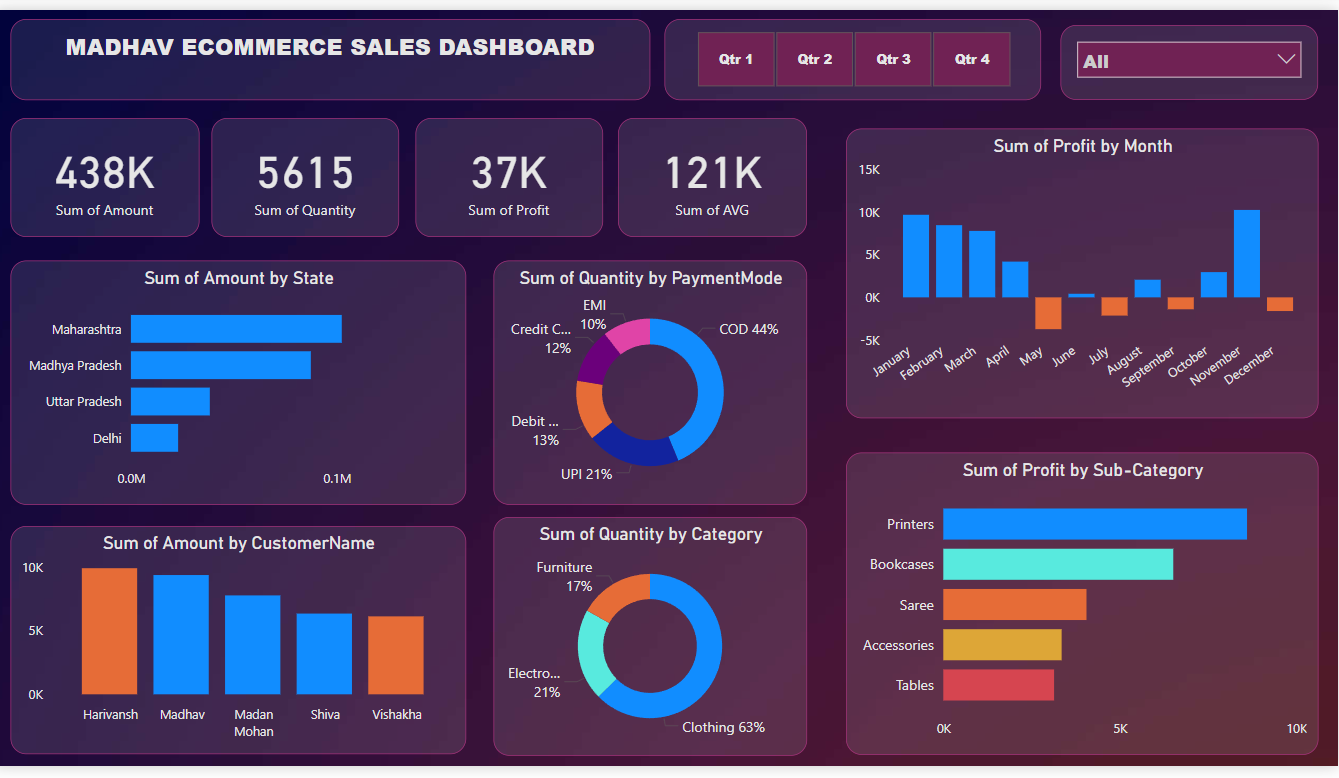

This screenshot's page, from the dashboard's own definition file:
{"tool":"powerbi","page":{"name":"Page 1","canvas":[1280,720],"ordinal":0},"visuals":[{"type":"textbox","box":[16.2,8.1,609.6,77],"z":0},{"type":"columnChart","fields":{"Y":["Details.Profit"],"Category":["Orders.Order Date.Variation.Date Hierarchy.Month"]},"box":[811,112.2,450.1,275.8],"z":1},{"type":"barChart","fields":{"Category":["Details.Sub-Category"],"Y":["Details.Profit"]},"box":[811,421.7,450.1,287.9],"z":2},{"type":"donutChart","fields":{"Category":["Details.Category"],"Y":["Details.Quantity"]},"box":[475.8,482.6,298.7,227.1],"z":3},{"type":"donutChart","fields":{"Y":["Details.Quantity"],"Category":["Details.PaymentMode"]},"box":[475.8,239.3,298.7,232.5],"z":4},{"type":"card","fields":{"Values":["Details.Amount"]},"box":[16.2,102.7,179.8,113.5],"z":5},{"type":"card","fields":{"Values":["Details.Quantity"]},"box":[206.8,102.7,178.4,113.5],"z":6},{"type":"card","fields":{"Values":["Details.Profit"]},"box":[401.5,102.7,178.4,113.5],"z":7},{"type":"card","fields":{"Values":["Details.AVG"]},"box":[594.8,102.7,179.8,113.5],"z":8},{"type":"barChart","fields":{"Category":["Orders.State"],"Y":["Details.Amount"]},"box":[16.2,239.3,433.9,232.5],"z":9},{"type":"columnChart","fields":{"Category":["Orders.CustomerName"],"Y":["Details.Amount"]},"box":[16.2,492,433.9,217.6],"z":10},{"type":"slicer","fields":{"Values":["Orders.Order Date.Variation.Date Hierarchy.Quarter"]},"box":[639,9.1,358.9,77.2],"z":11},{"type":"slicer","fields":{"Values":["Orders.State"]},"box":[1016,13.6,245.3,71.2],"z":12}]}

Visuals, with their boxes on the page's 1280x720 design canvas (x1, y1, x2, y2). These are canvas units, not pixel positions in the 1339x778 screenshot, which may show the page scaled, cropped or inside an application window:
textbox: bbox=[16, 8, 626, 85]
columnChart - Details.Profit x Orders.Order Date.Variation.Date Hierarchy.Month: bbox=[811, 112, 1261, 388]
barChart - Details.Sub-Category x Details.Profit: bbox=[811, 422, 1261, 710]
donutChart - Details.Category x Details.Quantity: bbox=[476, 483, 774, 710]
donutChart - Details.Quantity x Details.PaymentMode: bbox=[476, 239, 774, 472]
card - Details.Amount: bbox=[16, 103, 196, 216]
card - Details.Quantity: bbox=[207, 103, 385, 216]
card - Details.Profit: bbox=[402, 103, 580, 216]
card - Details.AVG: bbox=[595, 103, 775, 216]
barChart - Orders.State x Details.Amount: bbox=[16, 239, 450, 472]
columnChart - Orders.CustomerName x Details.Amount: bbox=[16, 492, 450, 710]
slicer - Orders.Order Date.Variation.Date Hierarchy.Quarter: bbox=[639, 9, 998, 86]
slicer - Orders.State: bbox=[1016, 14, 1261, 85]
